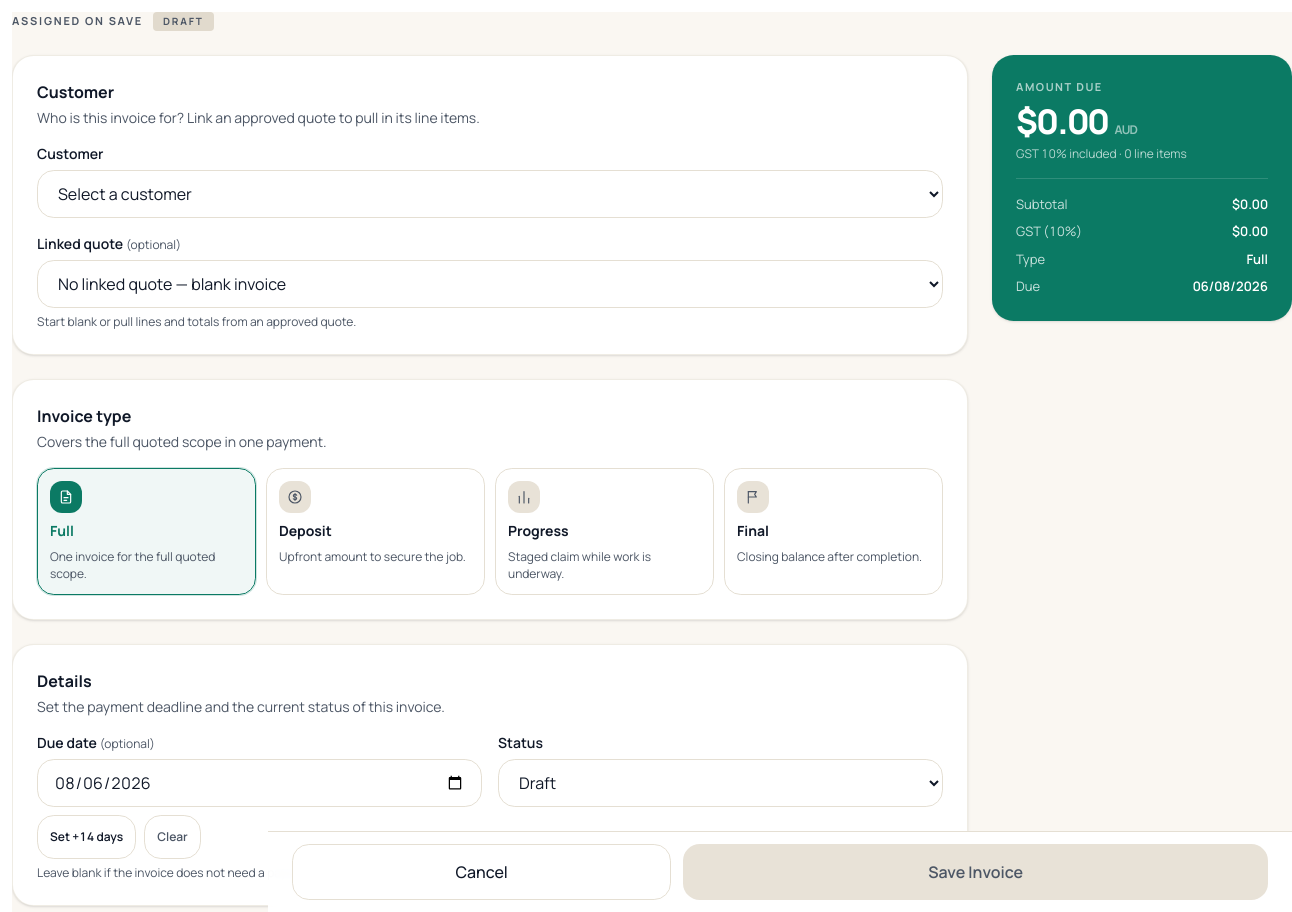
InvoiceForm › shows customer snapshot after selecting a customer
Select "Harbor Cafe" in the dropdown labelled "Customer" at (490, 194), box [37,170,943,218]
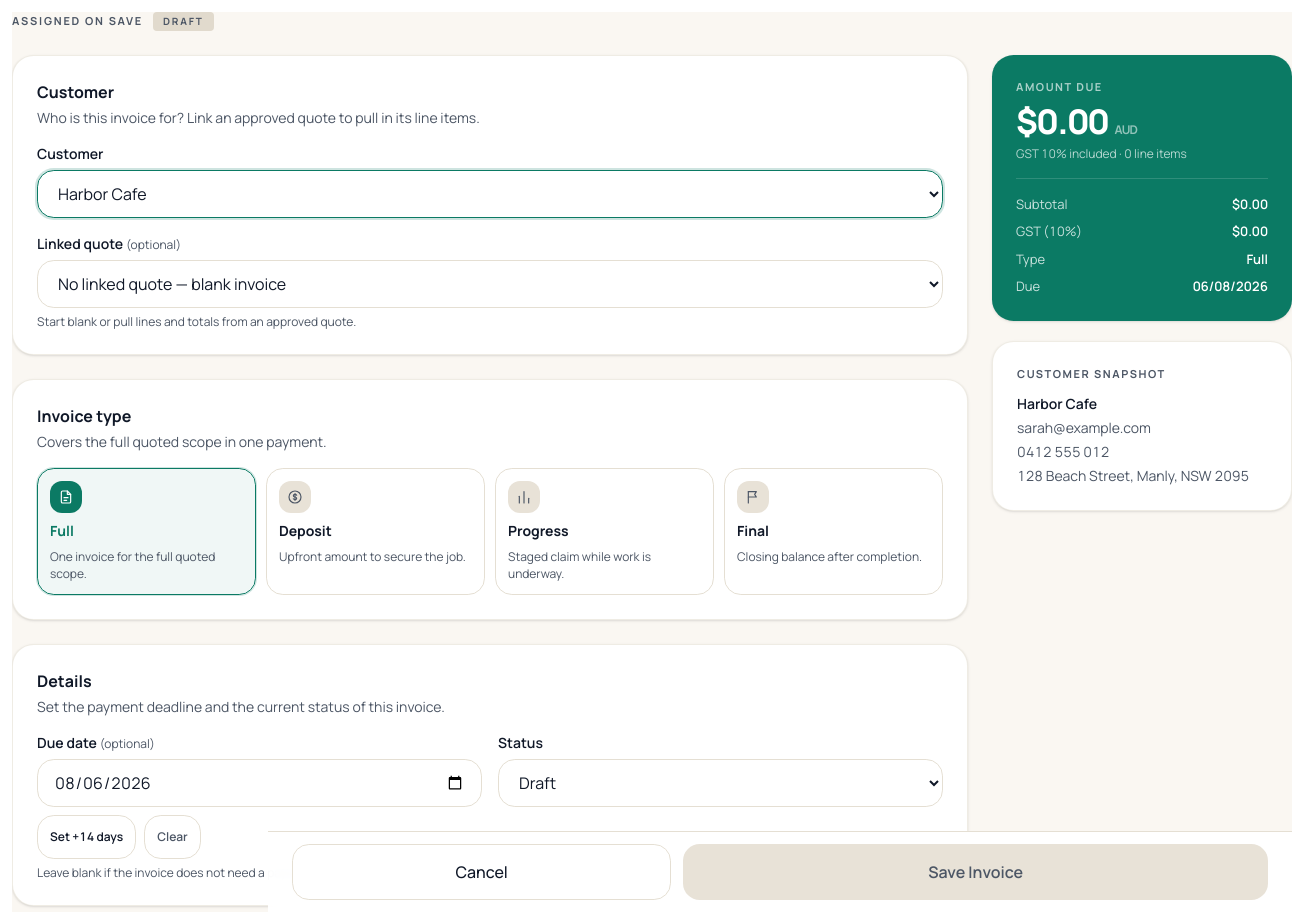
Result: the text "Customer snapshot" is shown at [1017,366,1166,380]
Result: the text "sarah@example.com" is shown at [1017,418,1151,437]
